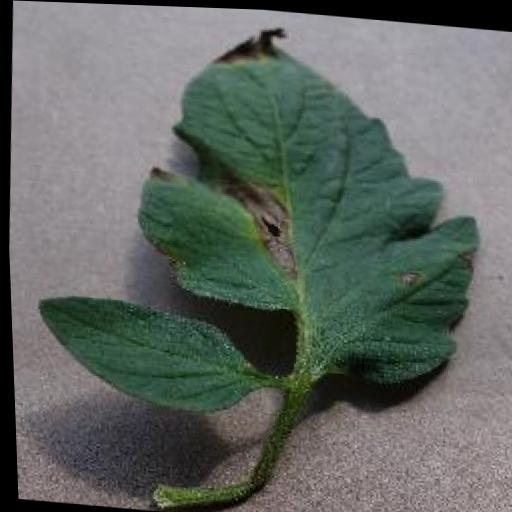Early Blight: (130, 11, 496, 397)
